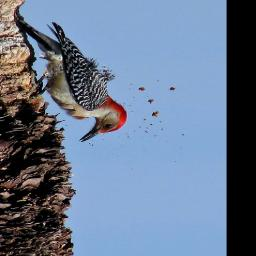Woodpecker: (12, 15, 129, 143)
